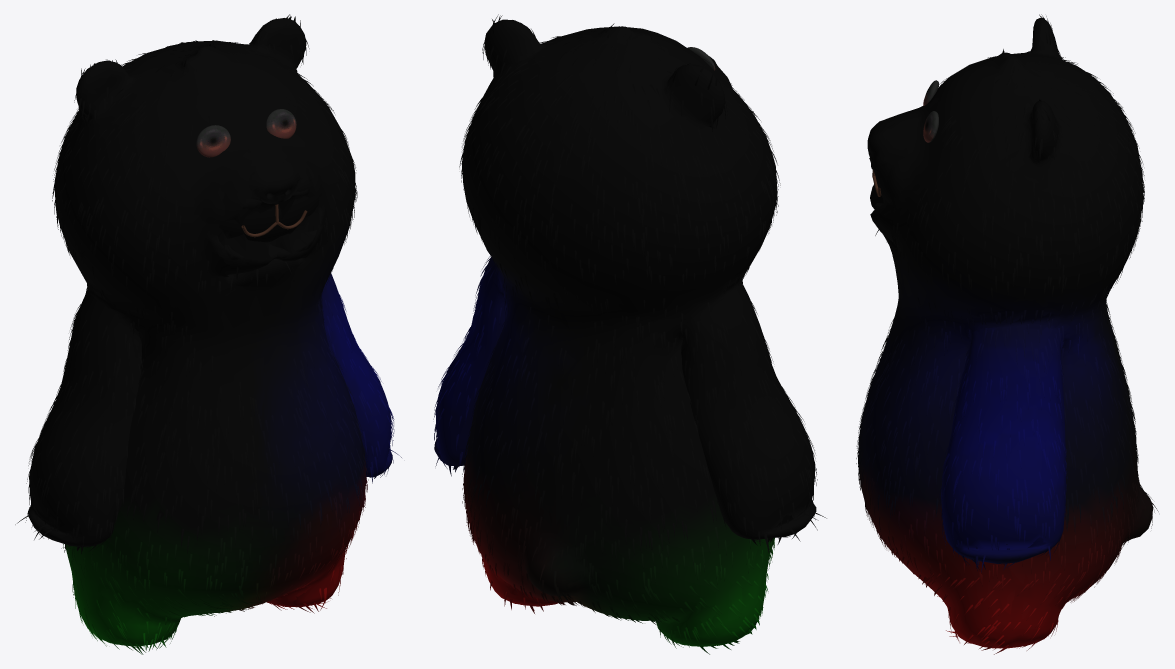
File: bear_shell_v12.glb
3 views of the same model, side by side, from view 1: azimuth 30°, elevation 25°; view 2: azimuth 150°, elevation 25°; view 3: azimuth 270°, elevation 25° (orthographic). The views are drawn at different scales.
Parts seen in each view (by area): view 1: BoundedShellGroom, Body, LayeredCurvedGroom, BrownBear_Normal; view 2: BoundedShellGroom, LayeredCurvedGroom, Body; view 3: BoundedShellGroom, LayeredCurvedGroom, Body, BrownBear_Normal.
Part boxes in pixels (x1,y1,x2,y2): BoundedShellGroom: (28, 18, 392, 646); Body: (29, 22, 385, 641); LayeredCurvedGroom: (15, 14, 401, 654); BrownBear_Normal: (196, 109, 296, 157); BoundedShellGroom: (434, 19, 816, 646); LayeredCurvedGroom: (433, 14, 826, 654); Body: (436, 20, 812, 636); BoundedShellGroom: (858, 18, 1152, 648); LayeredCurvedGroom: (856, 14, 1158, 654); Body: (859, 21, 1145, 626); BrownBear_Normal: (923, 80, 938, 142).
Size of the model in its own units: 1.67 by 2.49 by 1.25.
Materials: 5 (4 with a texture image).
